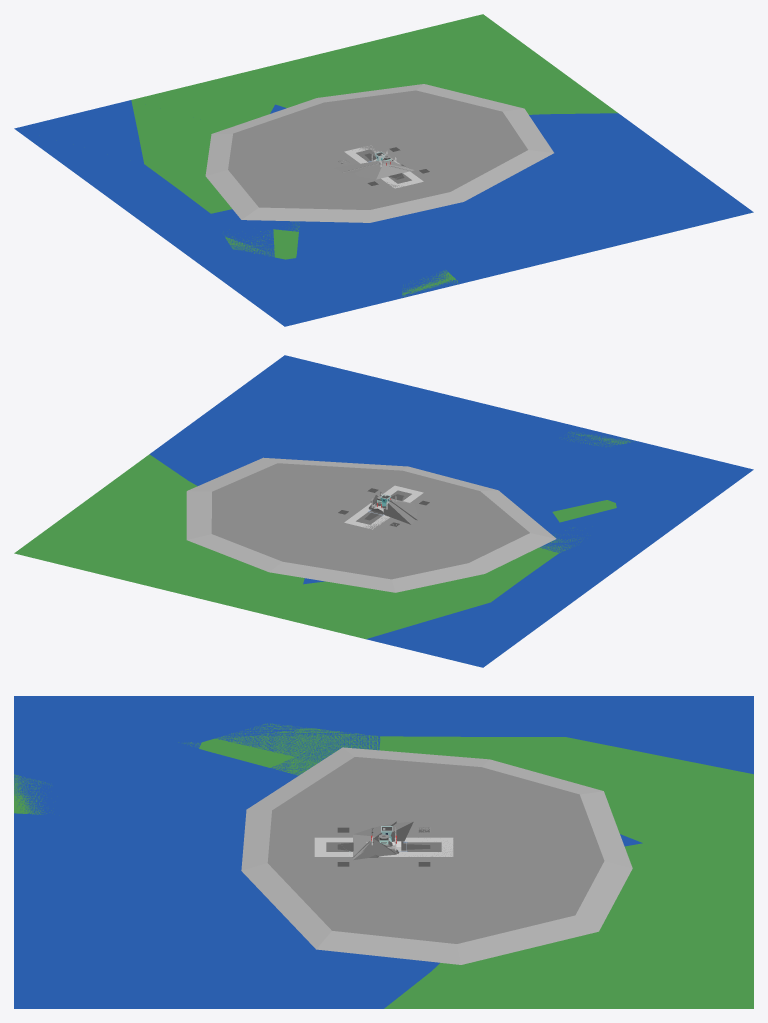
3 views of the same model, one above another, from view 1: azimuth 30°, elevation 25°; view 2: azimuth 150°, elevation 25°; view 3: azimuth 270°, elevation 25° (orthographic). The views are drawn at different scales.
Visible parts, largest first — view 1: me_021_lod0, me_003_lod0, me_001_lod0, me_002_lod0, me_004_lod0, me_010_lod0, me_043_lod0; view 2: me_021_lod0, me_001_lod0, me_003_lod0, me_002_lod0, me_004_lod0, me_010_lod0, me_043_lod0; view 3: me_021_lod0, me_001_lod0, me_003_lod0, me_002_lod0, me_004_lod0, me_043_lod0, me_010_lod0.
Boxes of the visible parts, x1=… form: me_021_lod0: x1=205, y1=84, x2=553, y2=222; me_003_lod0: x1=214, y1=104, x2=753, y2=324; me_001_lod0: x1=14, y1=71, x2=295, y2=326; me_002_lod0: x1=285, y1=14, x2=617, y2=326; me_004_lod0: x1=225, y1=14, x2=615, y2=259; me_010_lod0: x1=335, y1=160, x2=414, y2=179; me_043_lod0: x1=344, y1=145, x2=423, y2=188; me_021_lod0: x1=186, y1=457, x2=556, y2=592; me_001_lod0: x1=249, y1=469, x2=753, y2=667; me_003_lod0: x1=149, y1=355, x2=745, y2=584; me_002_lod0: x1=14, y1=421, x2=753, y2=553; me_004_lod0: x1=14, y1=455, x2=616, y2=610; me_010_lod0: x1=369, y1=494, x2=416, y2=524; me_043_lod0: x1=344, y1=485, x2=423, y2=529; me_021_lod0: x1=241, y1=747, x2=632, y2=964; me_001_lod0: x1=14, y1=696, x2=753, y2=852; me_003_lod0: x1=14, y1=697, x2=642, y2=1008; me_002_lod0: x1=14, y1=696, x2=752, y2=1008; me_004_lod0: x1=178, y1=723, x2=753, y2=1008; me_043_lod0: x1=314, y1=837, x2=453, y2=856; me_010_lod0: x1=353, y1=821, x2=413, y2=859.
Size of what is drawn, in the model's own units: 4096 by 138 by 4096.
